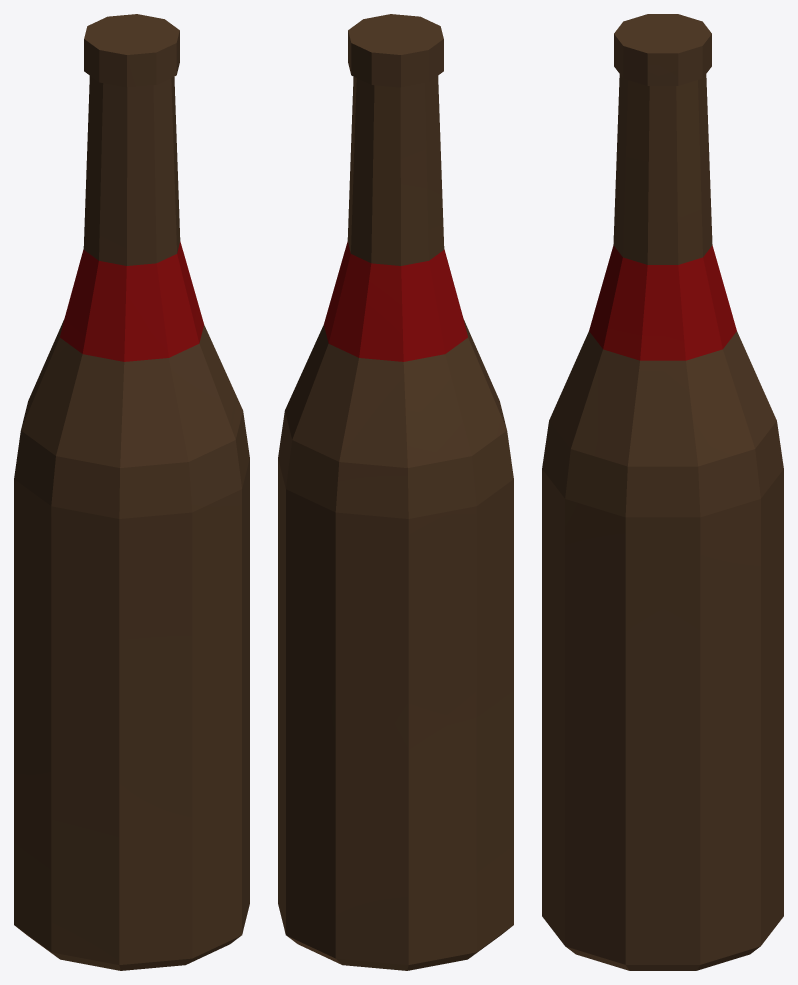
Rendered from bottle_1.fbx.
3 views of the same model, side by side, from view 1: azimuth 30°, elevation 25°; view 2: azimuth 150°, elevation 25°; view 3: azimuth 270°, elevation 25° (orthographic).
Visible parts, largest first — view 1: bottle_1; view 2: bottle_1; view 3: bottle_1.
Boxes of the visible parts, left/top/right/bottom form: bottle_1: left=14, top=14, right=249, bottom=970; bottle_1: left=278, top=14, right=513, bottom=970; bottle_1: left=542, top=14, right=783, bottom=970.
Bounding box in the file's own units: 0.0752 × 0.3222 × 0.079.
